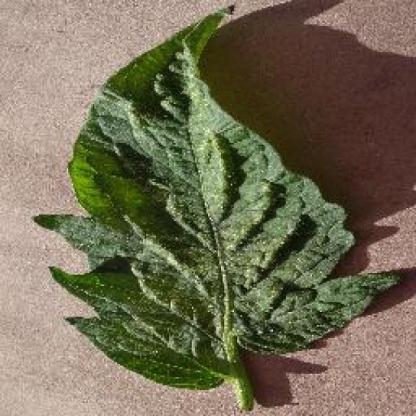Tomato_Spider_Mites: (43, 6, 401, 386)
